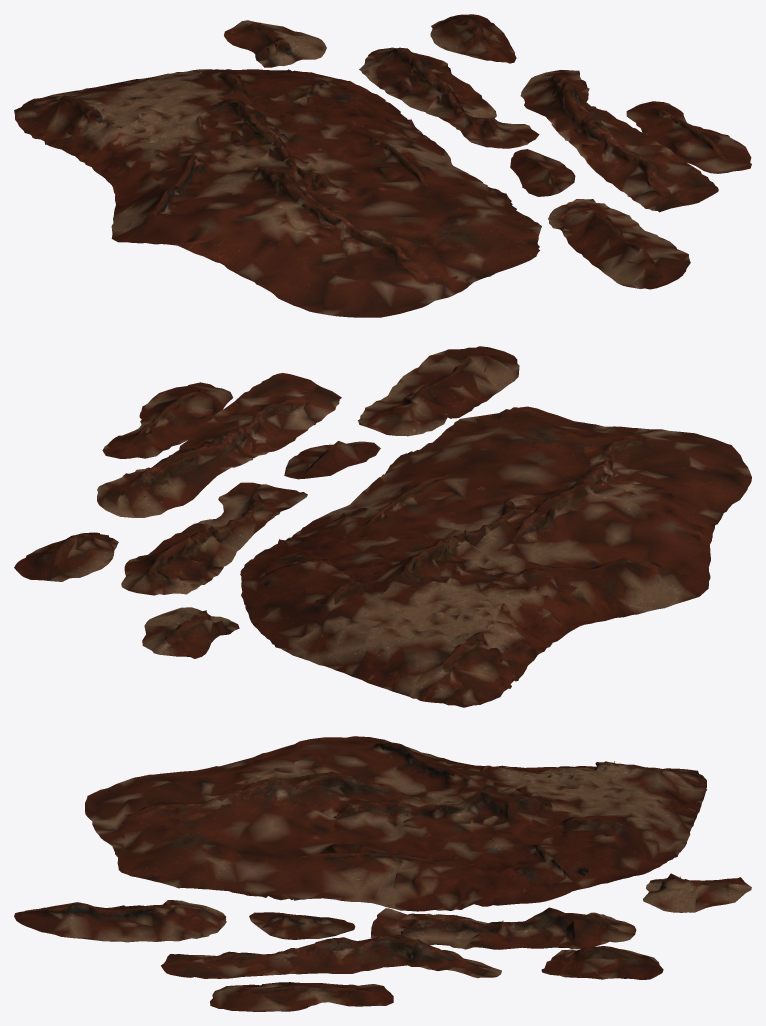
File: root_cluster_02.glb
3 renders of one model, top to bottom at view 1: azimuth 30°, elevation 25°; view 2: azimuth 150°, elevation 25°; view 3: azimuth 270°, elevation 25°, orthographic. The views are drawn at different scales.
Visible parts, largest first — view 1: root_cluster_02_a, root_cluster_02_f, root_cluster_02_d, root_cluster_02_b, root_cluster_02_g, root_cluster_02_e, root_cluster_02_h, root_cluster_02_c; view 2: root_cluster_02_a, root_cluster_02_f, root_cluster_02_d, root_cluster_02_b, root_cluster_02_g, root_cluster_02_h, root_cluster_02_e, root_cluster_02_c; view 3: root_cluster_02_a, root_cluster_02_f, root_cluster_02_d, root_cluster_02_b, root_cluster_02_g, root_cluster_02_h, root_cluster_02_e, root_cluster_02_c.
Boxes of the visible parts, <box> form: root_cluster_02_a: <box>14,69,541,317</box>; root_cluster_02_f: <box>520,70,718,212</box>; root_cluster_02_d: <box>359,47,539,148</box>; root_cluster_02_b: <box>548,199,690,289</box>; root_cluster_02_g: <box>626,101,751,173</box>; root_cluster_02_e: <box>224,20,326,67</box>; root_cluster_02_h: <box>430,14,516,63</box>; root_cluster_02_c: <box>510,149,575,196</box>; root_cluster_02_a: <box>240,406,751,707</box>; root_cluster_02_f: <box>97,373,341,517</box>; root_cluster_02_d: <box>121,482,307,595</box>; root_cluster_02_b: <box>358,346,519,436</box>; root_cluster_02_g: <box>102,382,232,458</box>; root_cluster_02_h: <box>14,532,118,581</box>; root_cluster_02_e: <box>142,607,239,658</box>; root_cluster_02_c: <box>284,441,380,479</box>; root_cluster_02_a: <box>85,736,706,911</box>; root_cluster_02_f: <box>161,935,501,978</box>; root_cluster_02_d: <box>370,907,636,949</box>; root_cluster_02_b: <box>14,900,226,942</box>; root_cluster_02_g: <box>210,982,393,1011</box>; root_cluster_02_h: <box>541,946,663,979</box>; root_cluster_02_e: <box>643,873,751,912</box>; root_cluster_02_c: <box>249,912,355,939</box>.
Bounding box in the file's own units: 2.38 × 0.1975 × 2.7.
1 material, 1 textured.
